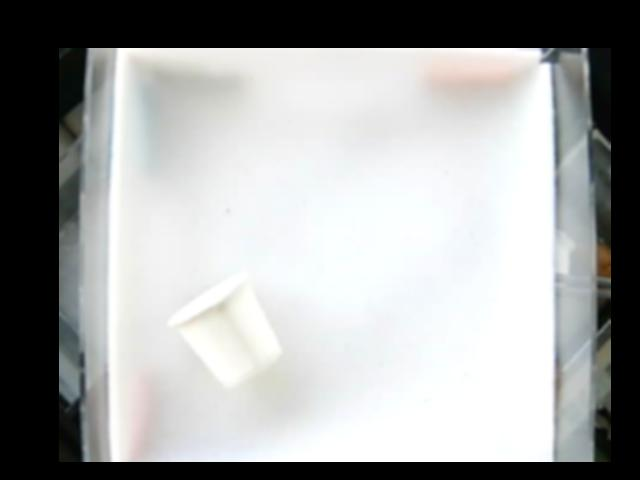Cup: (167, 270, 284, 387)
